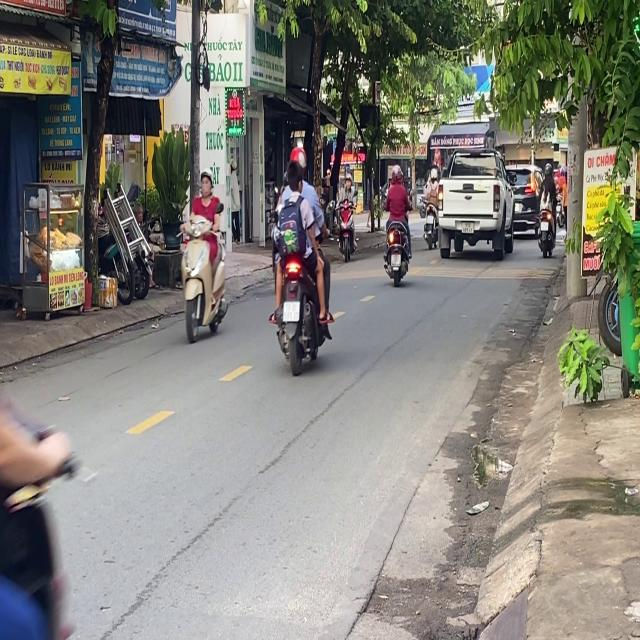helmet: (287, 145, 305, 176), (198, 166, 212, 195), (391, 164, 401, 183)
licenseplate: (266, 143, 334, 373), (178, 164, 229, 343), (381, 164, 412, 285)
motorcyclist: (285, 160, 304, 193)
nohelmet: (283, 300, 299, 320)
